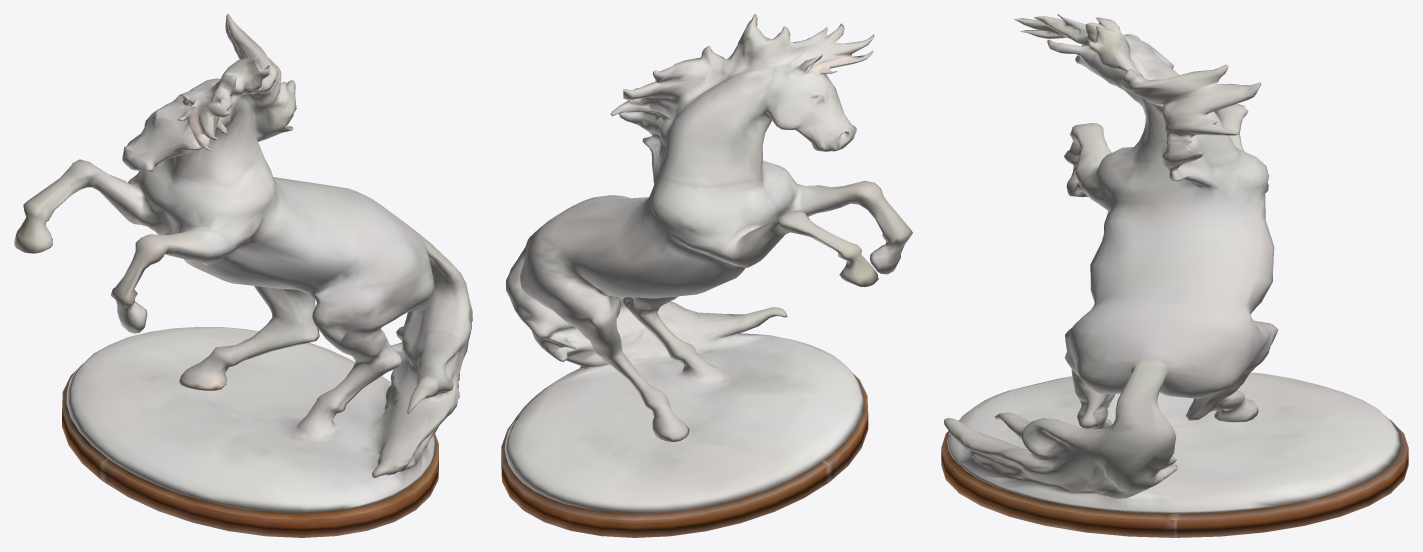
The model's file is ph-horse-statue-01.glb.
3 views of the same model, side by side, from view 1: azimuth 30°, elevation 25°; view 2: azimuth 150°, elevation 25°; view 3: azimuth 270°, elevation 25° (orthographic). The views are drawn at different scales.
Parts seen in each view (by area): view 1: horse_statue_01; view 2: horse_statue_01; view 3: horse_statue_01.
Part boxes in pixels (box(x1,y1,x2,y2)): horse_statue_01: box(14, 14, 472, 537); horse_statue_01: box(501, 14, 912, 537); horse_statue_01: box(941, 14, 1408, 537).
Bounding box in the file's own units: 1 × 1 × 1.
Materials: 1 (1 with a texture image).
